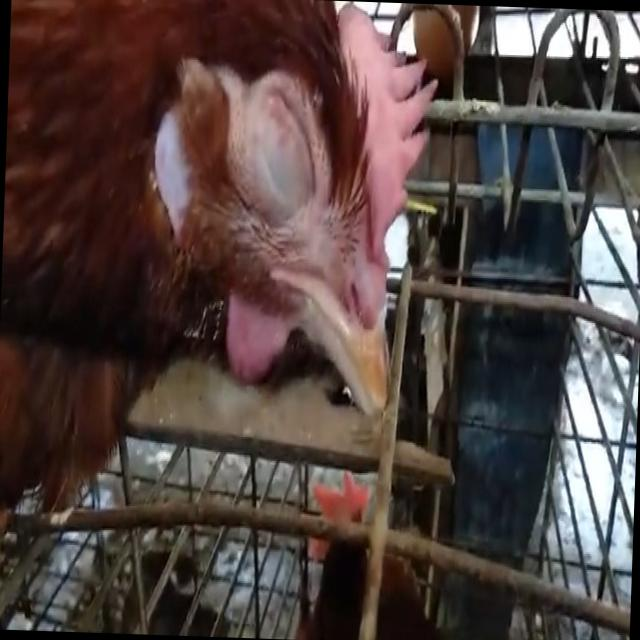bird flu: (0, 0, 445, 436)
